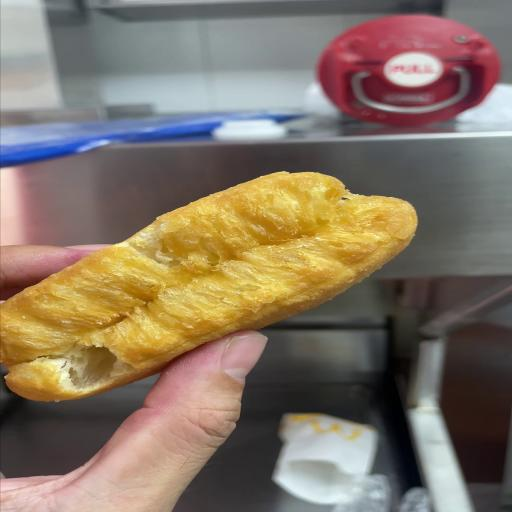brand_golden_defect: (0, 172, 416, 401)
